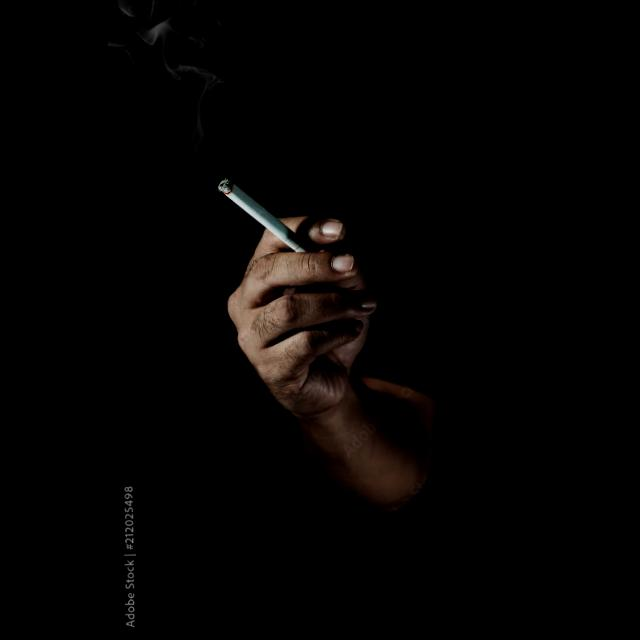cigarette: (217, 176, 310, 255)
